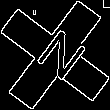N_SW: (24, 23, 86, 87)
